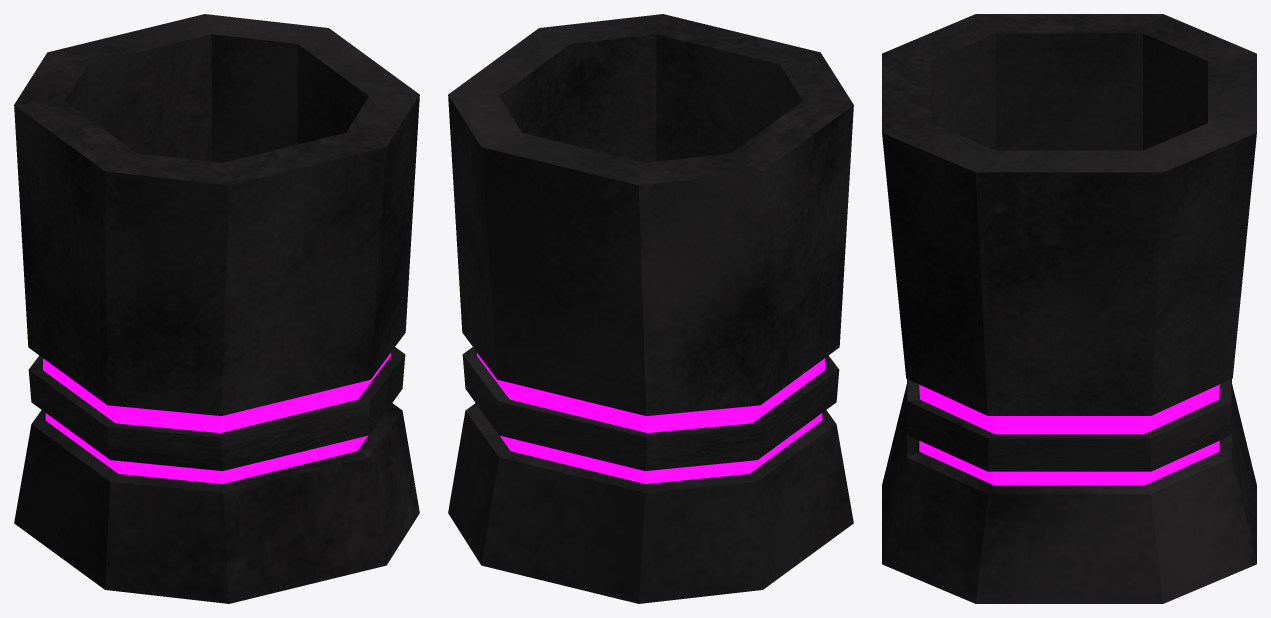
File: M_lleimer.fbx
The picture shows the model from 3 angles, left to right: view 1: azimuth 30°, elevation 25°; view 2: azimuth 150°, elevation 25°; view 3: azimuth 270°, elevation 25°; orthographic projection. The views are drawn at different scales.
Visible parts, largest first — view 1: Mülleimer; view 2: Mülleimer; view 3: Mülleimer.
Part boxes in pixels (x1,y1,x2,y2): Mülleimer: (14, 14, 419, 603); Mülleimer: (448, 14, 853, 603); Mülleimer: (882, 14, 1256, 603).
Size of the model in its own units: 60.2 by 76.65 by 60.2.
